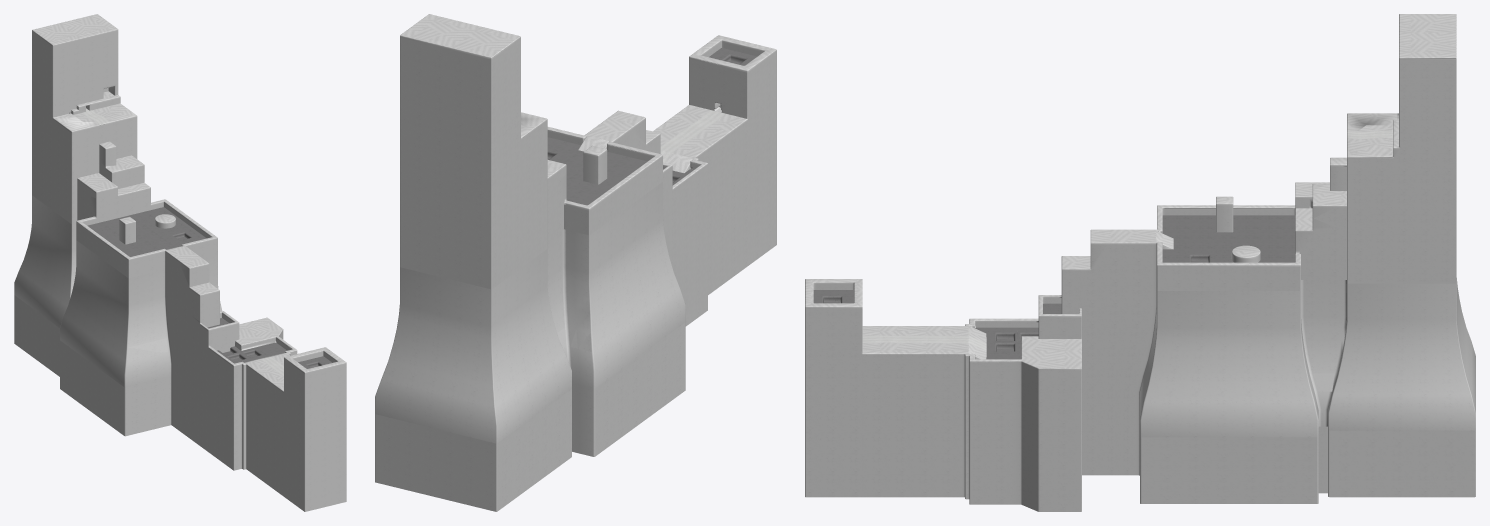
File: CapWorldTower.dae
The picture shows the model from 3 angles, left to right: view 1: azimuth 30°, elevation 25°; view 2: azimuth 150°, elevation 25°; view 3: azimuth 270°, elevation 25°; orthographic projection. The views are drawn at different scales.
Visible parts, largest first — view 1: CapWorldTowerGround000_003; view 2: CapWorldTowerGround000_003; view 3: CapWorldTowerGround000_003.
Part boxes in pixels (box(x1,y1,x2,y2)): CapWorldTowerGround000_003: box(14, 14, 346, 511); CapWorldTowerGround000_003: box(375, 14, 776, 511); CapWorldTowerGround000_003: box(805, 14, 1475, 511).
Bounding box in the file's own units: 6648 × 23265 × 16550.
Materials: 4 (4 with a texture image).
